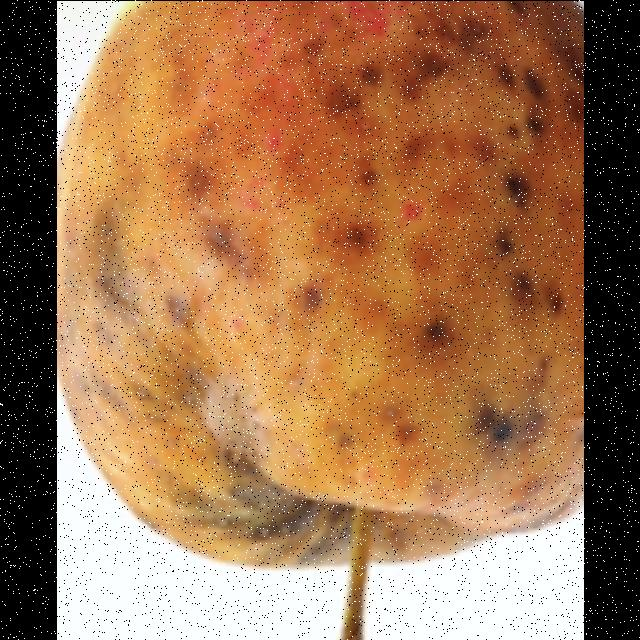Apel Tidak Segar: (57, 0, 584, 603)
